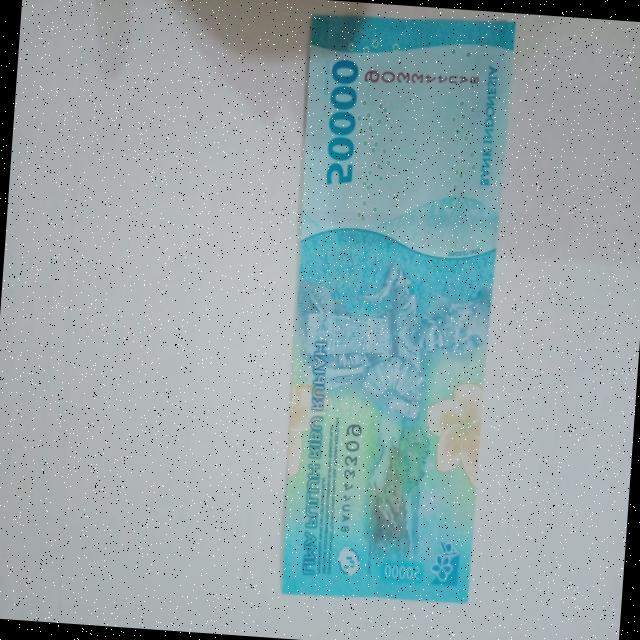50K: (264, 0, 527, 622)
